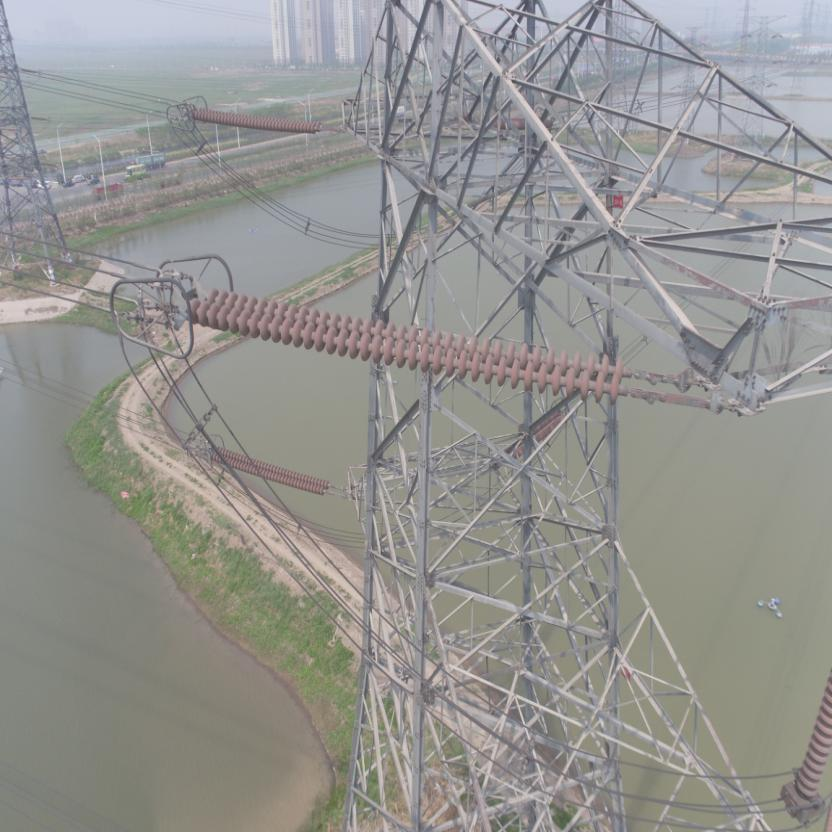insulator: (179, 284, 657, 405), (207, 441, 336, 497), (184, 99, 328, 134)
